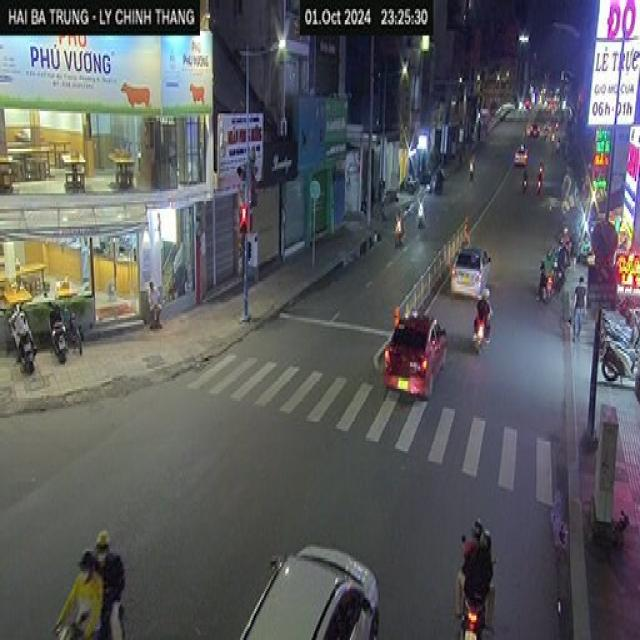car: (238, 541, 386, 640), (383, 316, 449, 397), (450, 235, 489, 298), (513, 134, 528, 167)
motorcycle: (8, 304, 38, 374), (603, 335, 640, 382), (458, 588, 490, 640), (46, 298, 68, 365), (470, 313, 486, 357), (541, 267, 552, 308), (557, 268, 565, 292)
person: (97, 527, 125, 632), (73, 547, 102, 639), (471, 529, 497, 608), (462, 513, 482, 570), (574, 276, 588, 343), (146, 278, 162, 331), (482, 288, 496, 332), (475, 285, 484, 320), (545, 245, 551, 281), (560, 242, 566, 272)
